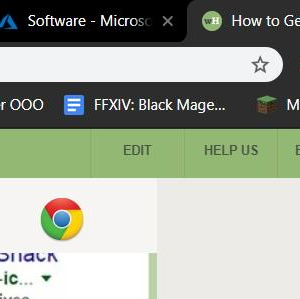chrome: (40, 196, 84, 241)
